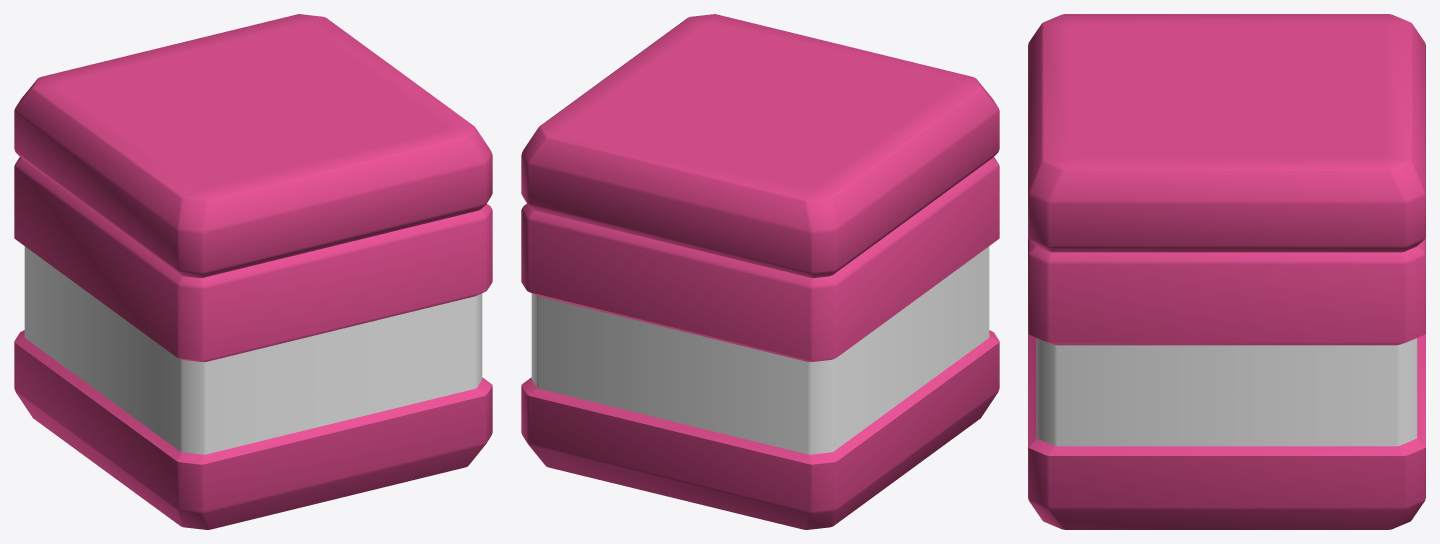
The model's file is 13_Box_purple.fbx.
3 renders of one model, left to right at view 1: azimuth 30°, elevation 25°; view 2: azimuth 150°, elevation 25°; view 3: azimuth 270°, elevation 25°, orthographic. The views are drawn at different scales.
Parts seen in each view (by area): view 1: 13_Box_purple; view 2: 13_Box_purple; view 3: 13_Box_purple.
Part boxes in pixels (x1,y1,x2,y2): 13_Box_purple: (14,14,492,529); 13_Box_purple: (521,14,999,529); 13_Box_purple: (1028,14,1425,529).
Size of the model in its own units: 100 by 100 by 100.
